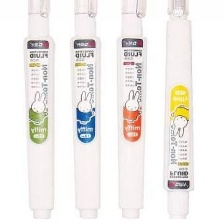correction_fluid: (22, 0, 59, 221), (114, 0, 150, 221), (161, 0, 196, 221), (69, 0, 104, 220)
